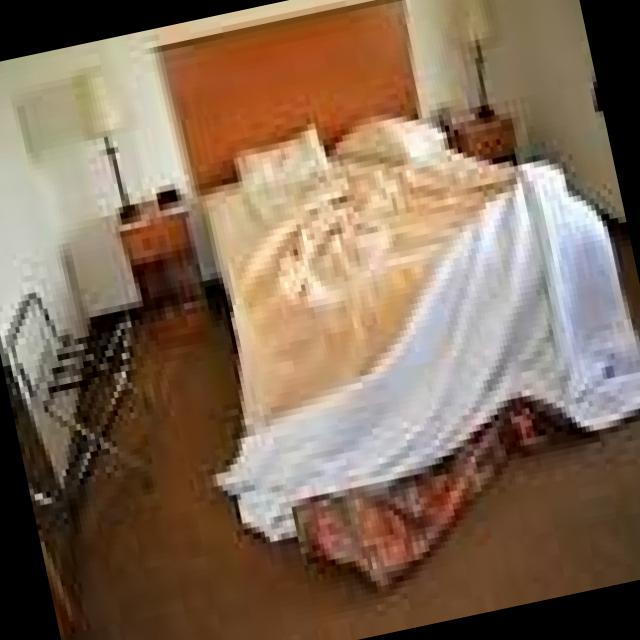mess: (192, 91, 526, 544), (416, 130, 617, 344), (93, 162, 206, 266), (421, 52, 524, 159)
